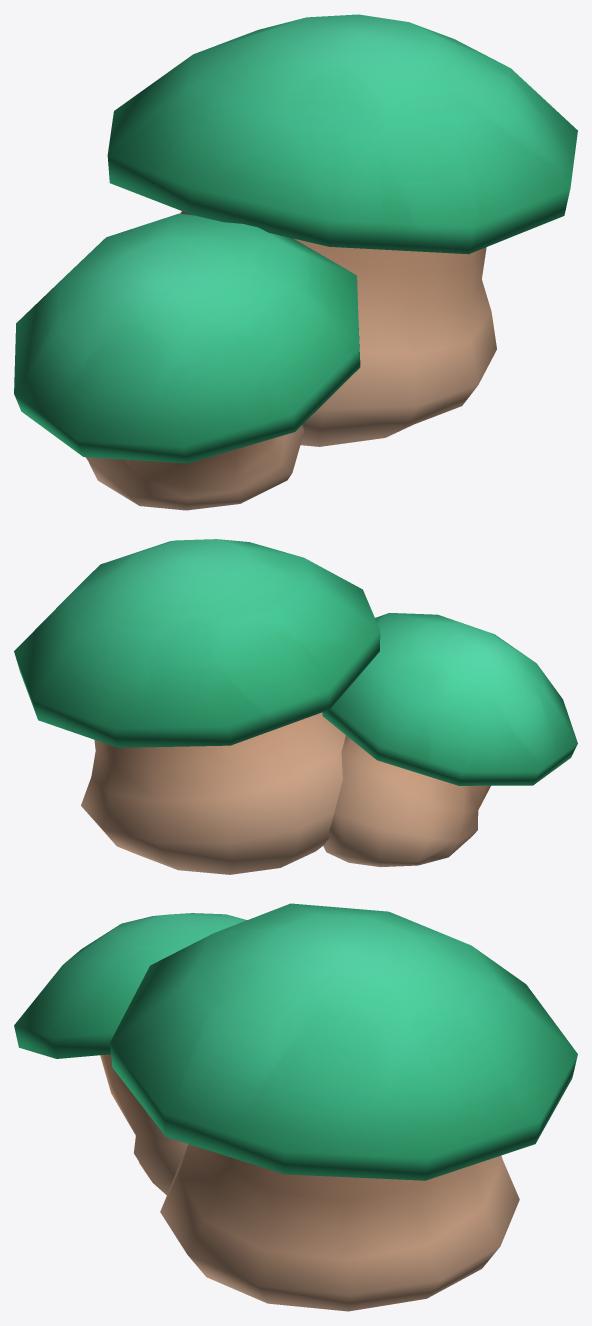
File: Shrooms3.fbx
The picture shows the model from 3 angles, top to bottom: view 1: azimuth 30°, elevation 25°; view 2: azimuth 150°, elevation 25°; view 3: azimuth 270°, elevation 25°; orthographic projection. The views are drawn at different scales.
Parts seen in each view (by area): view 1: BezierCurve.002; view 2: BezierCurve.002; view 3: BezierCurve.002.
Part boxes in pixels (left/top/right/bottom): BezierCurve.002: left=14, top=14, right=577, bottom=510; BezierCurve.002: left=14, top=539, right=577, bottom=874; BezierCurve.002: left=14, top=903, right=577, bottom=1311.
Size of the model in its own units: 201 by 111 by 173.
